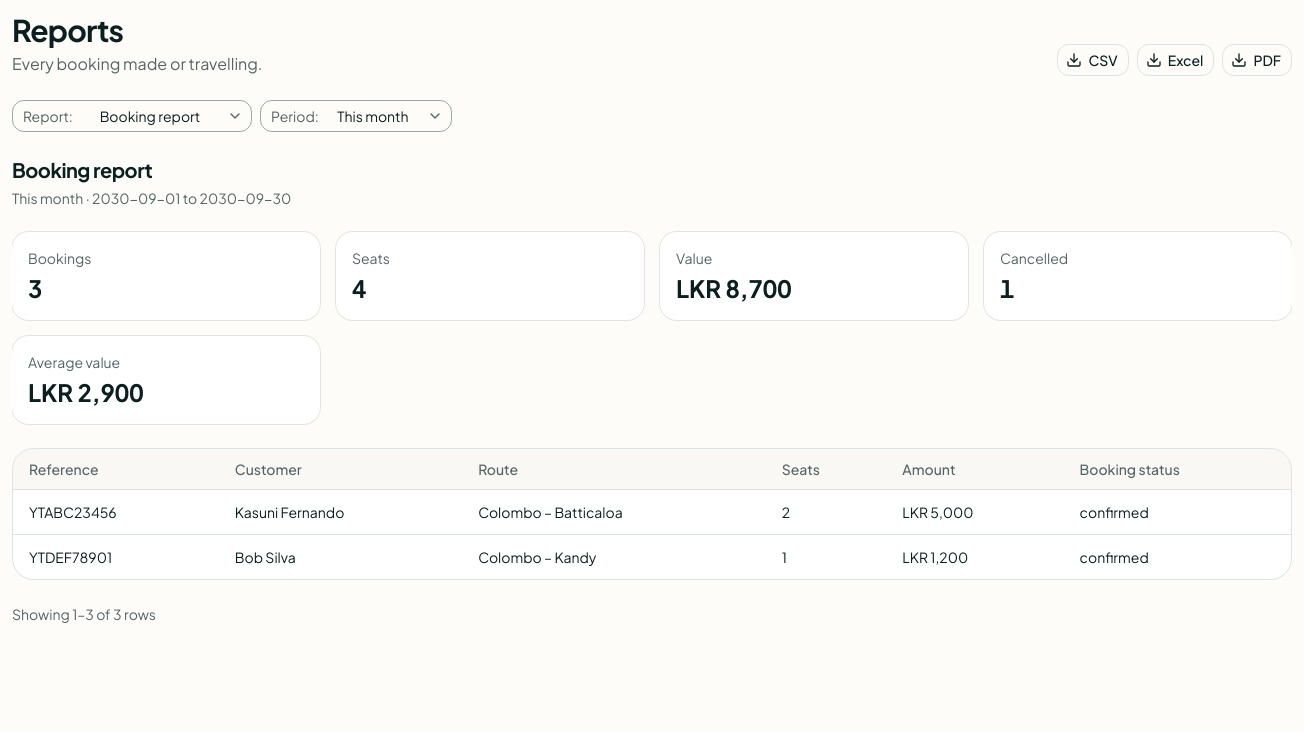
Scenario: Admin reports › offers the occupancy grouping only for the occupancy report
The width and height of the screenshot is (1304, 732).
Expected: the table named "Booking report" is shown, [13,449,1291,578]
Expected: the dropdown labelled "Group" is not shown
Click the dropdown labelled "Report" at (132, 116), box [12,100,252,132]
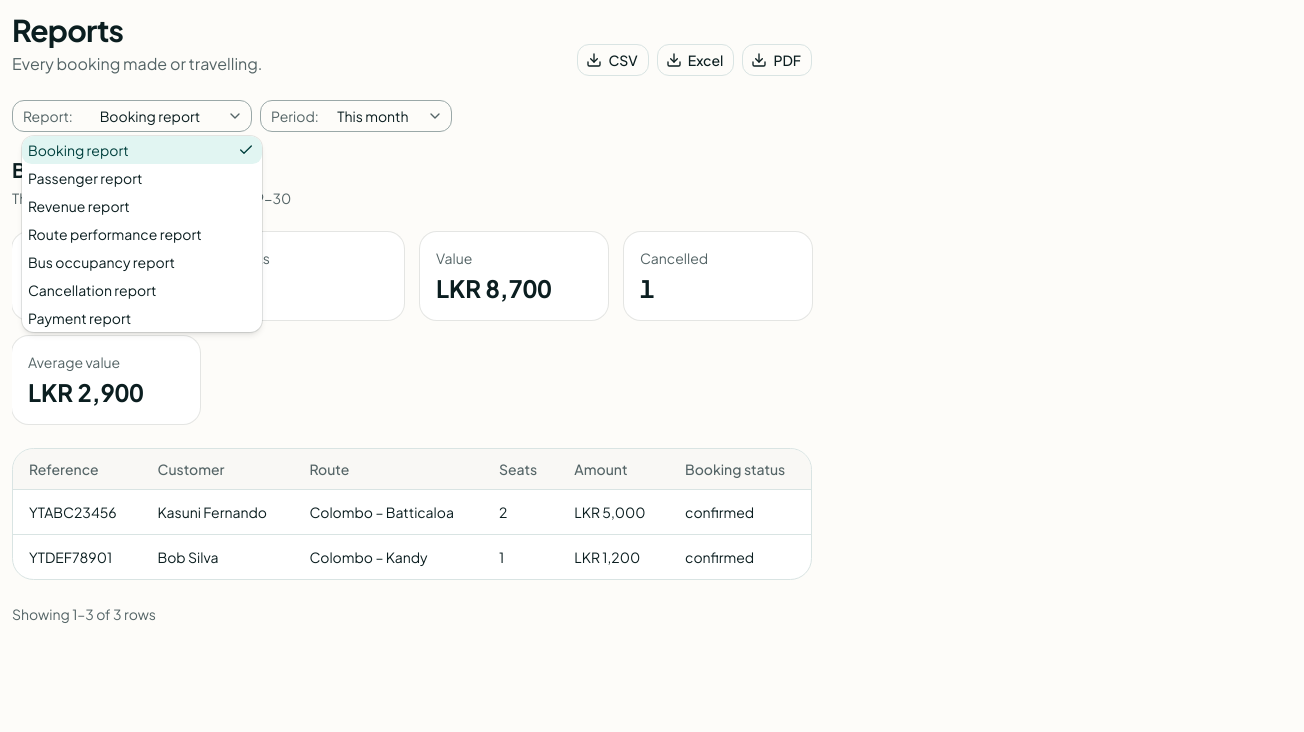
Click the option "Bus occupancy report" at (101, 262), box [28,253,175,271]
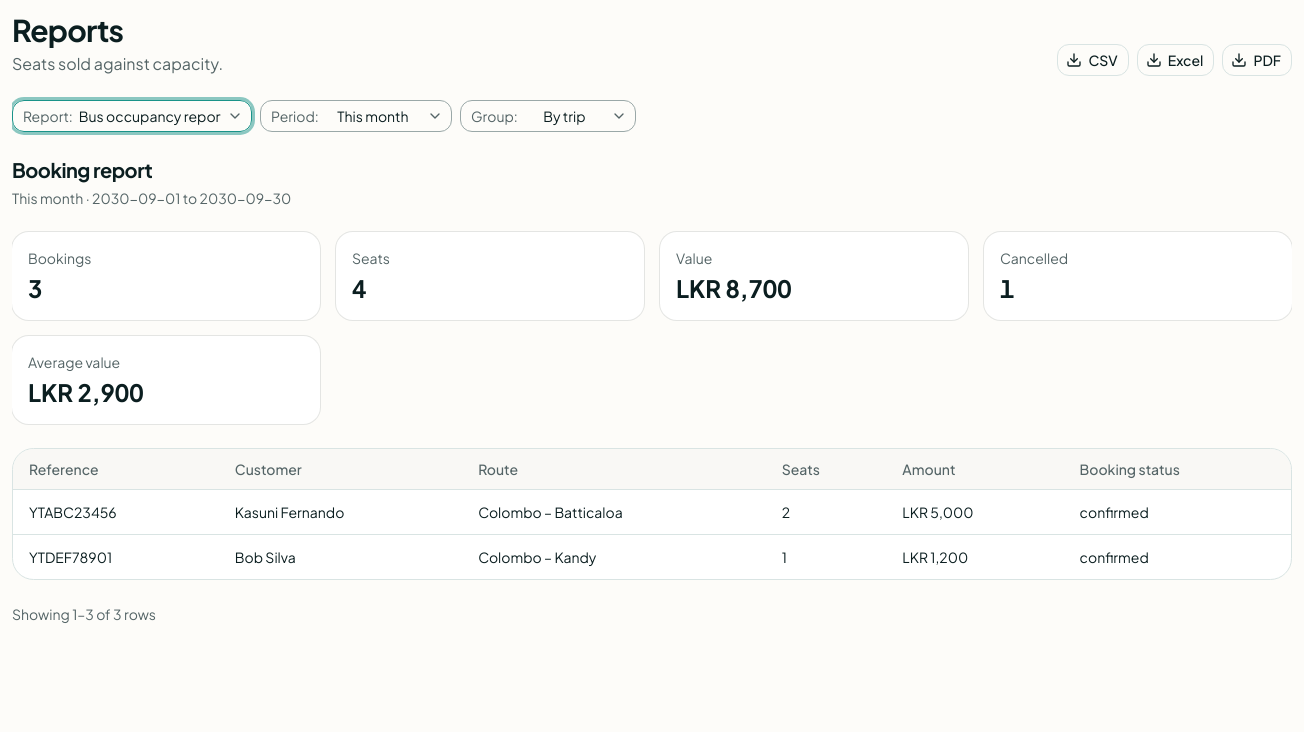
Now the dropdown labelled "Group" is shown, box [460,100,636,132]
